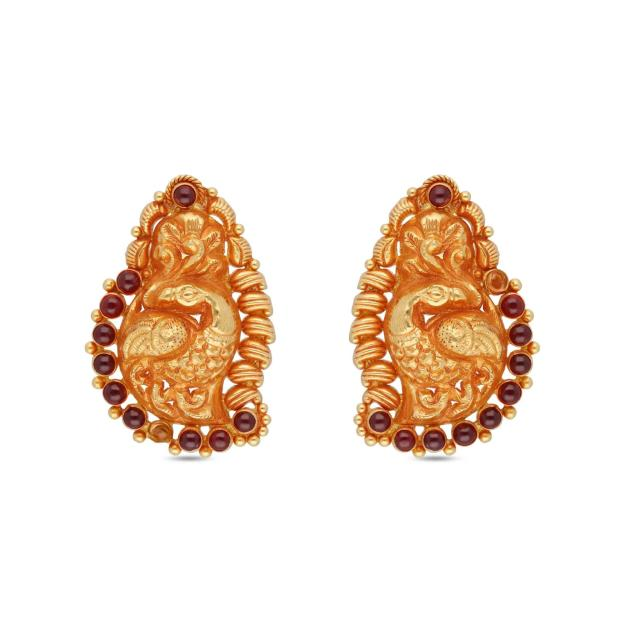missing gem: (486, 270, 508, 292), (150, 422, 171, 444)
